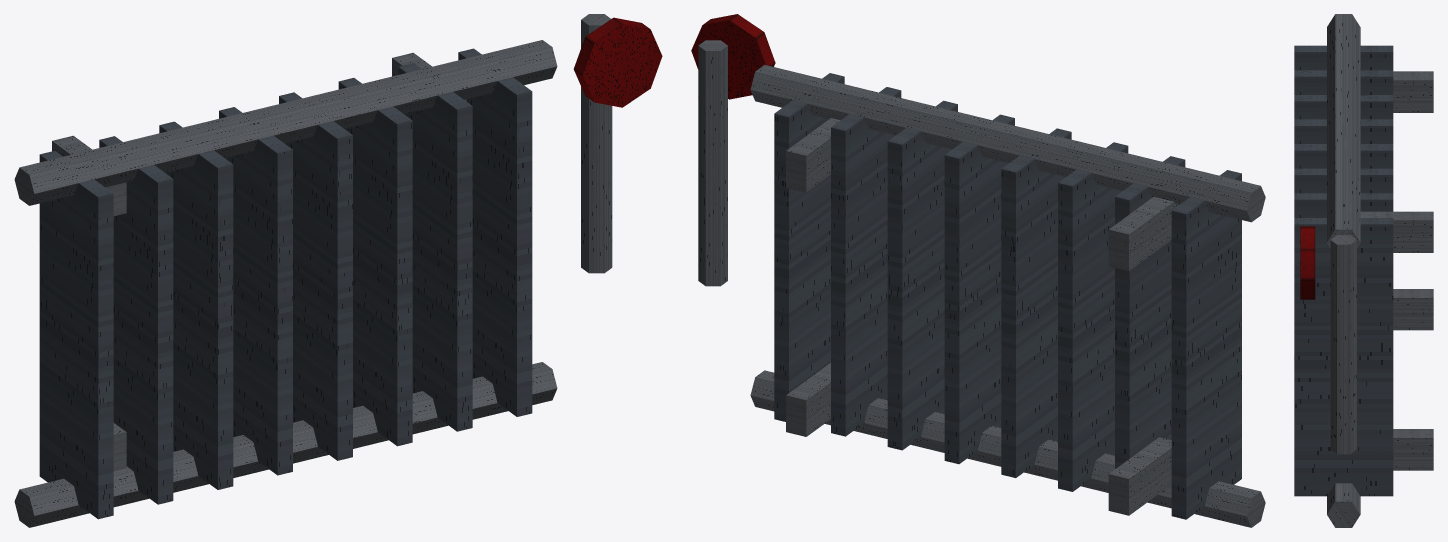
File: radiator_heater_habitation_worn.glb
3 views of the same model, side by side, from view 1: azimuth 30°, elevation 25°; view 2: azimuth 150°, elevation 25°; view 3: azimuth 270°, elevation 25° (orthographic). The views are drawn at different scales.
Parts seen in each view (by area): view 1: radiator_heater_habitation_worn; view 2: radiator_heater_habitation_worn; view 3: radiator_heater_habitation_worn.
Part boxes in pixels (box(x1,y1,x2,y2)): radiator_heater_habitation_worn: box(14, 14, 662, 527); radiator_heater_habitation_worn: box(691, 14, 1265, 527); radiator_heater_habitation_worn: box(1294, 14, 1433, 527).
Bounding box in the file's own units: 0.995 × 0.5892 × 0.2325.
3 materials, 3 textured.
